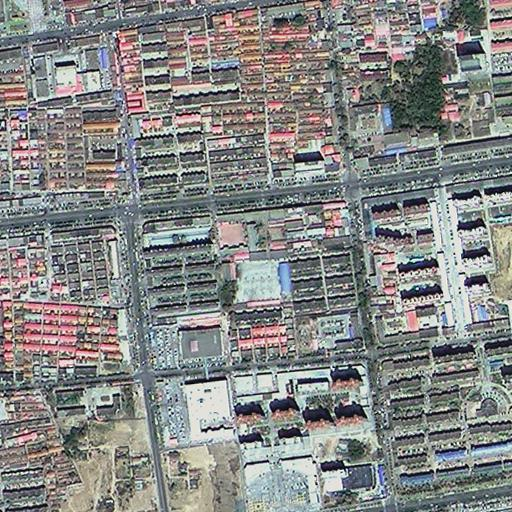school: (217, 211, 288, 303)
